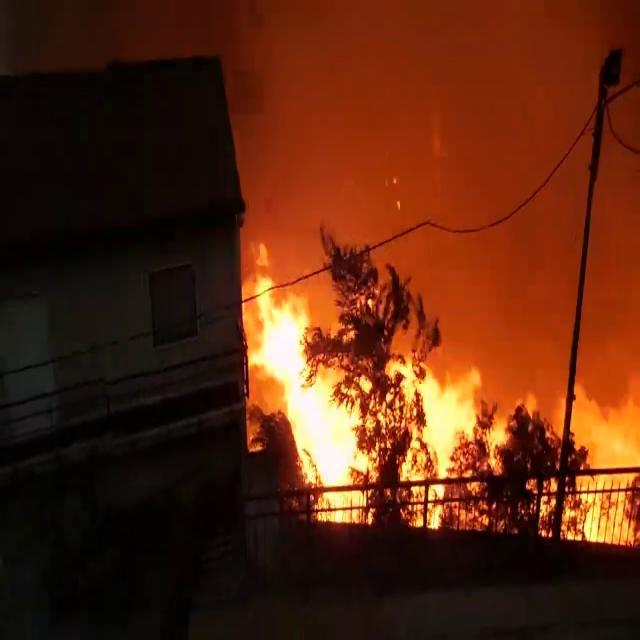Fire: (242, 250, 488, 528), (548, 353, 640, 561)
Smoke: (238, 1, 640, 316)
